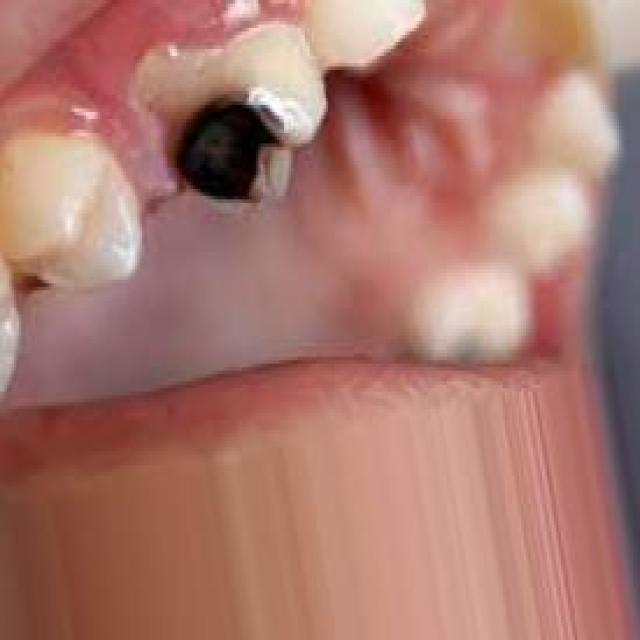caries: (157, 44, 318, 220)
